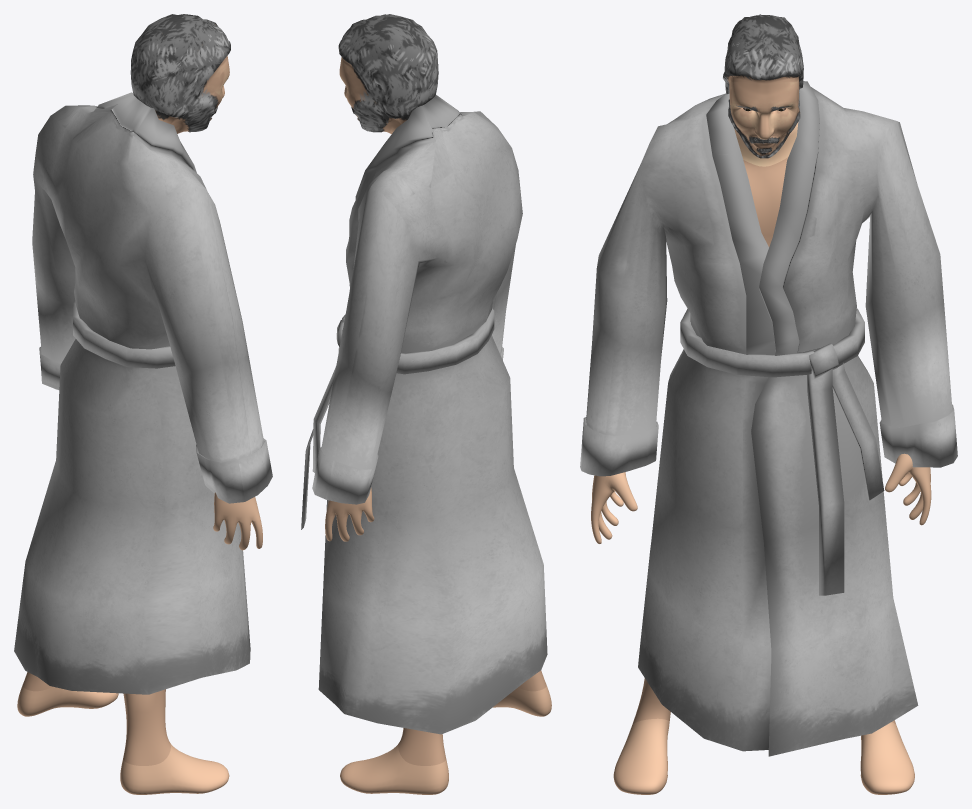
File: alan_sink.gltf
3 views of the same model, side by side, from view 1: azimuth 30°, elevation 25°; view 2: azimuth 150°, elevation 25°; view 3: azimuth 270°, elevation 25° (orthographic). The views are drawn at different scales.
Parts seen in each view (by area): view 1: alan_window; view 2: alan_window; view 3: alan_window.
Boxes of the visible parts, x1,y1,x2,y2 form: alan_window: [14, 14, 272, 794]; alan_window: [301, 14, 551, 794]; alan_window: [580, 14, 957, 794].
Bounding box in the file's own units: 1.53 × 5.07 × 2.21.
Materials: 4 (3 with a texture image).
